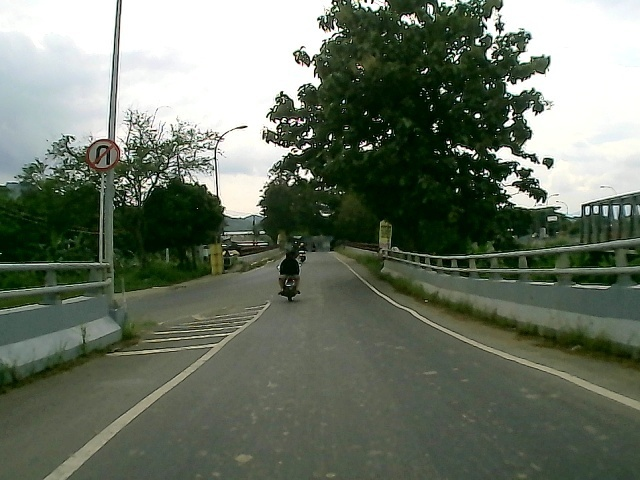Dilarang berbalik arah: (84, 135, 123, 174)
